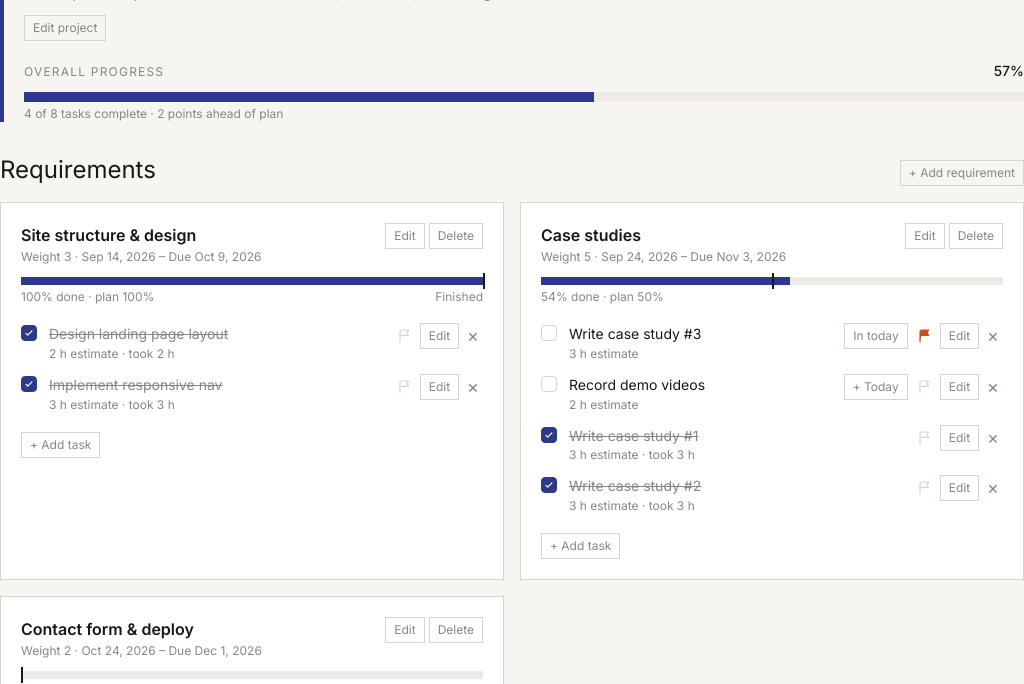
ProjectDetail › shows the Unlinked group after unlinking a requirement's tasks
This screenshot has width=1024, height=684.
Step 1. Click the button with aria-label "Delete Case studies" → (976, 236), box [949,223,1003,249]
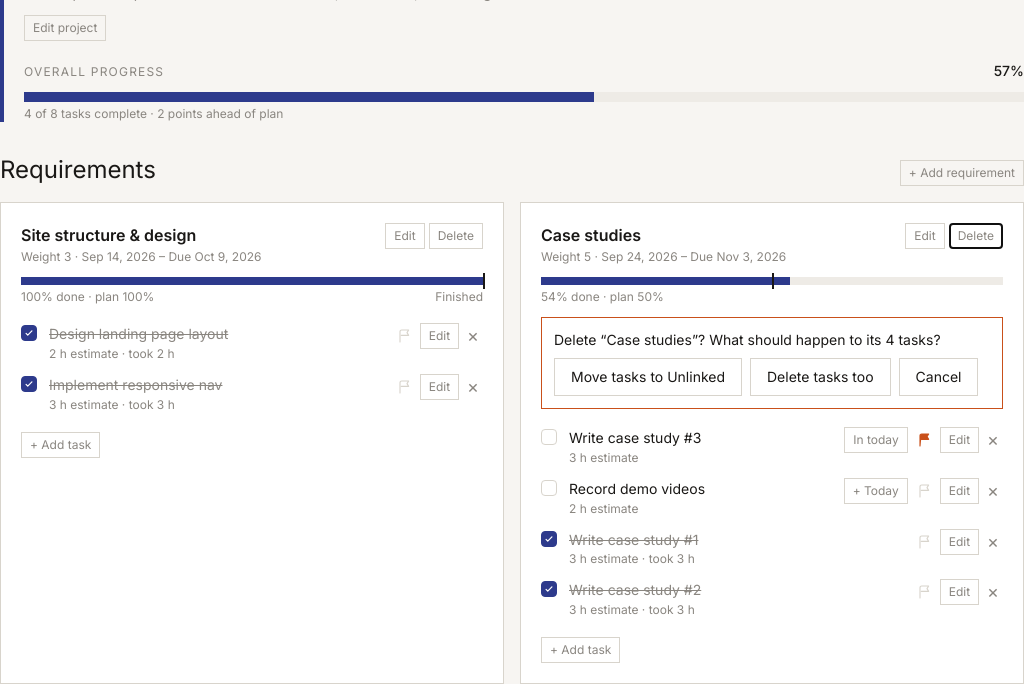
Step 2. Click the button "Move tasks to Unlinked" → (648, 377), box [554,358,742,396]
(page scrolled)
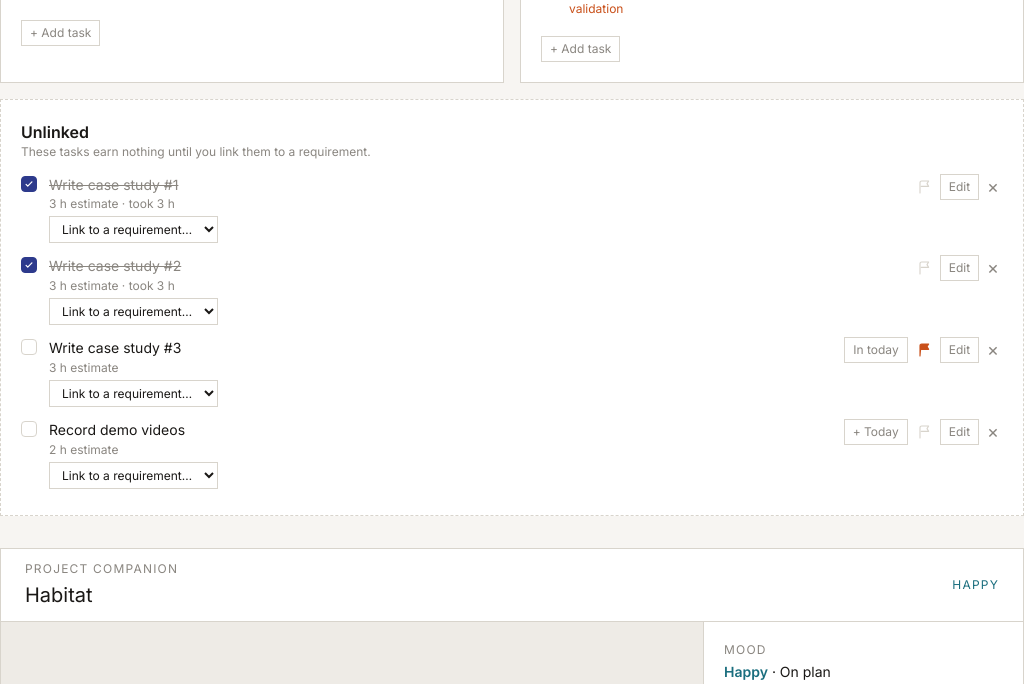
Expected: the element named "Unlinked tasks" is shown
